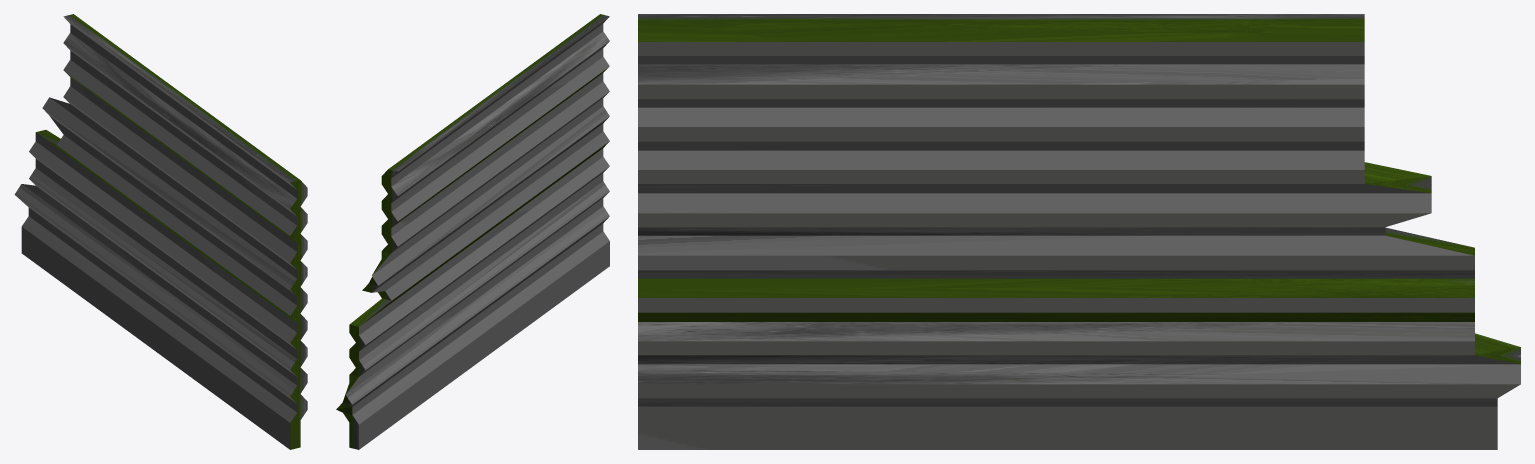
File: Model_Broken_House_Roof_2.fbx
3 views of the same model, side by side, from view 1: azimuth 30°, elevation 25°; view 2: azimuth 150°, elevation 25°; view 3: azimuth 270°, elevation 25° (orthographic). The views are drawn at different scales.
Parts seen in each view (by area): view 1: 立方体.025; view 2: 立方体.025; view 3: 立方体.025.
Boxes of the visible parts, x1,y1,x2,y2 form: 立方体.025: (14,14,307,449); 立方体.025: (336,14,609,449); 立方体.025: (638,14,1520,449).
Size of the model in its own units: 9.12 by 135 by 252.
